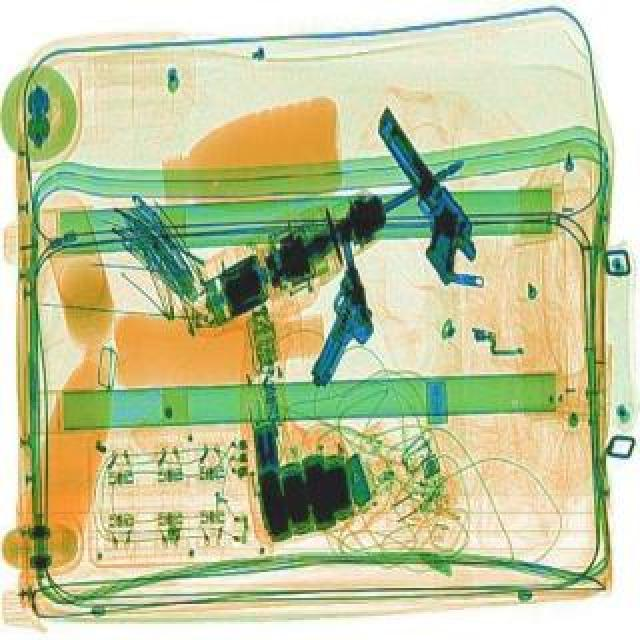gun: (338, 104, 494, 282), (284, 232, 404, 392)
